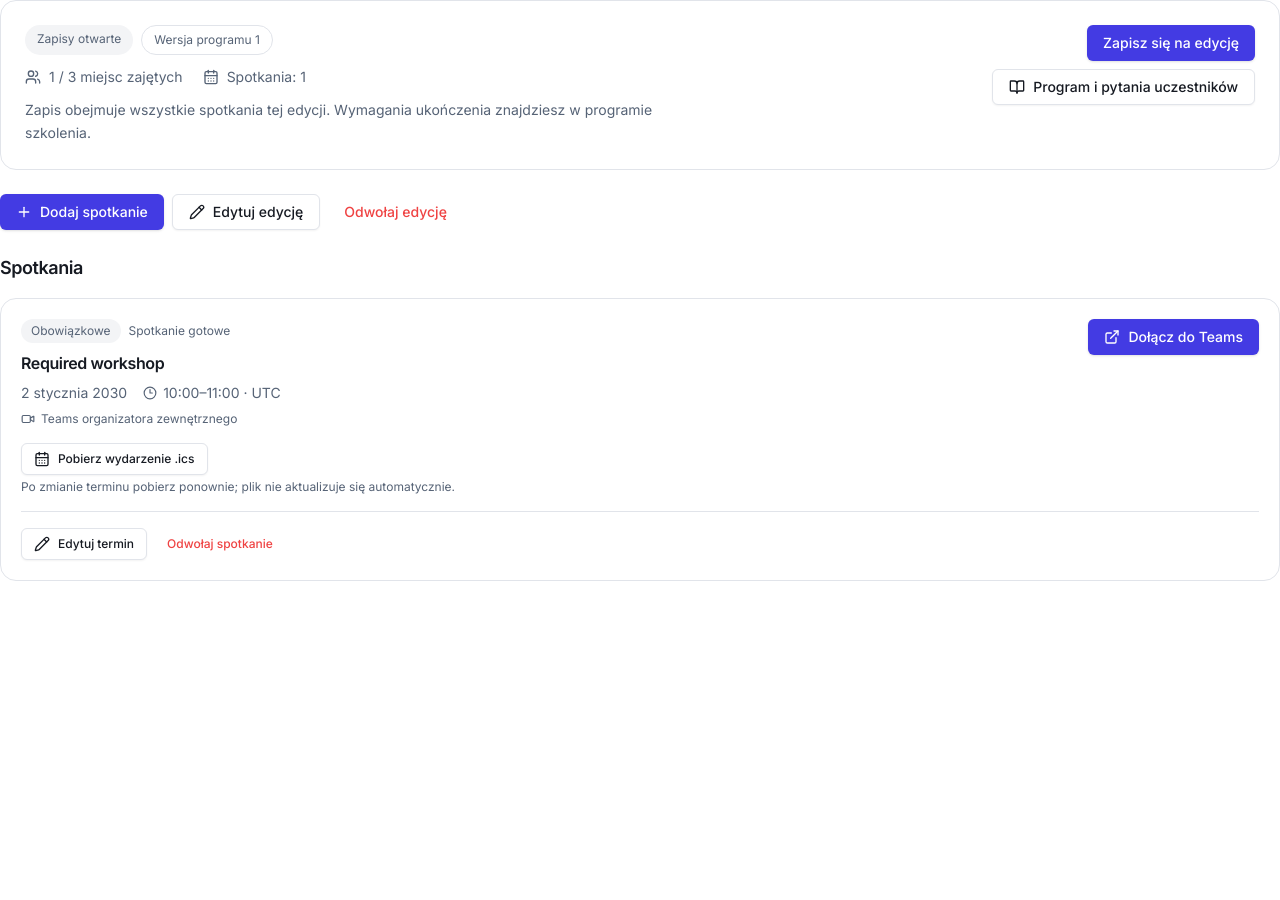
Published session obligations › distinguishes Compass cancellation from the external Teams host action (run)
Click the button "Odwołaj edycję".
click(396, 212)  # box [328,194,463,230]
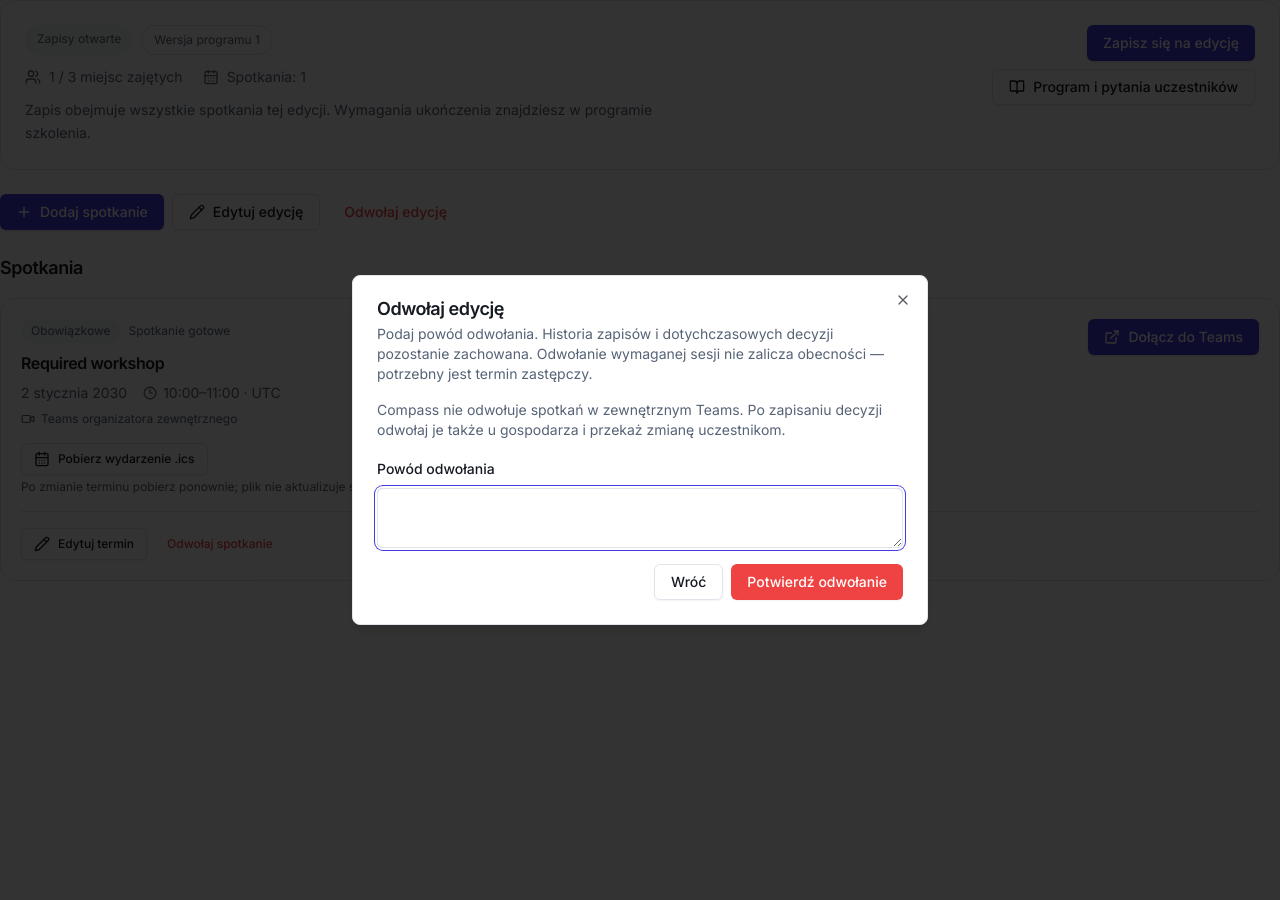
expect the text "Compass nie odwołuje spotkań w zewnętrznym Teams" is shown: met, box [377,401,882,438]
Type "Trener przełożył warsztat" into the text box labelled "Powód odwołania".
click(640, 518); type("Trener przełożył warsztat")  # box [377,488,903,548]
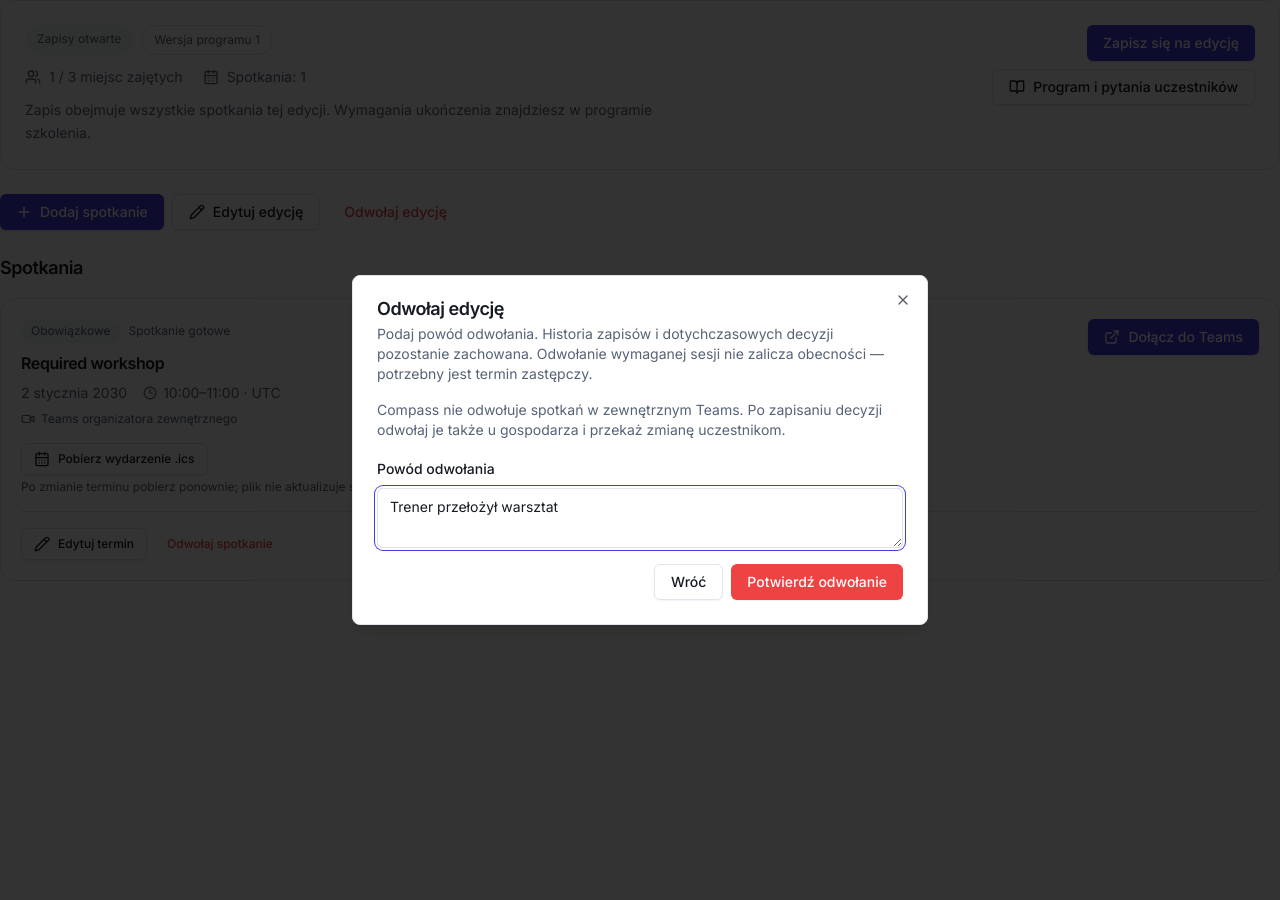
Click the button "Potwierdź odwołanie".
click(817, 582)  # box [731,564,903,600]
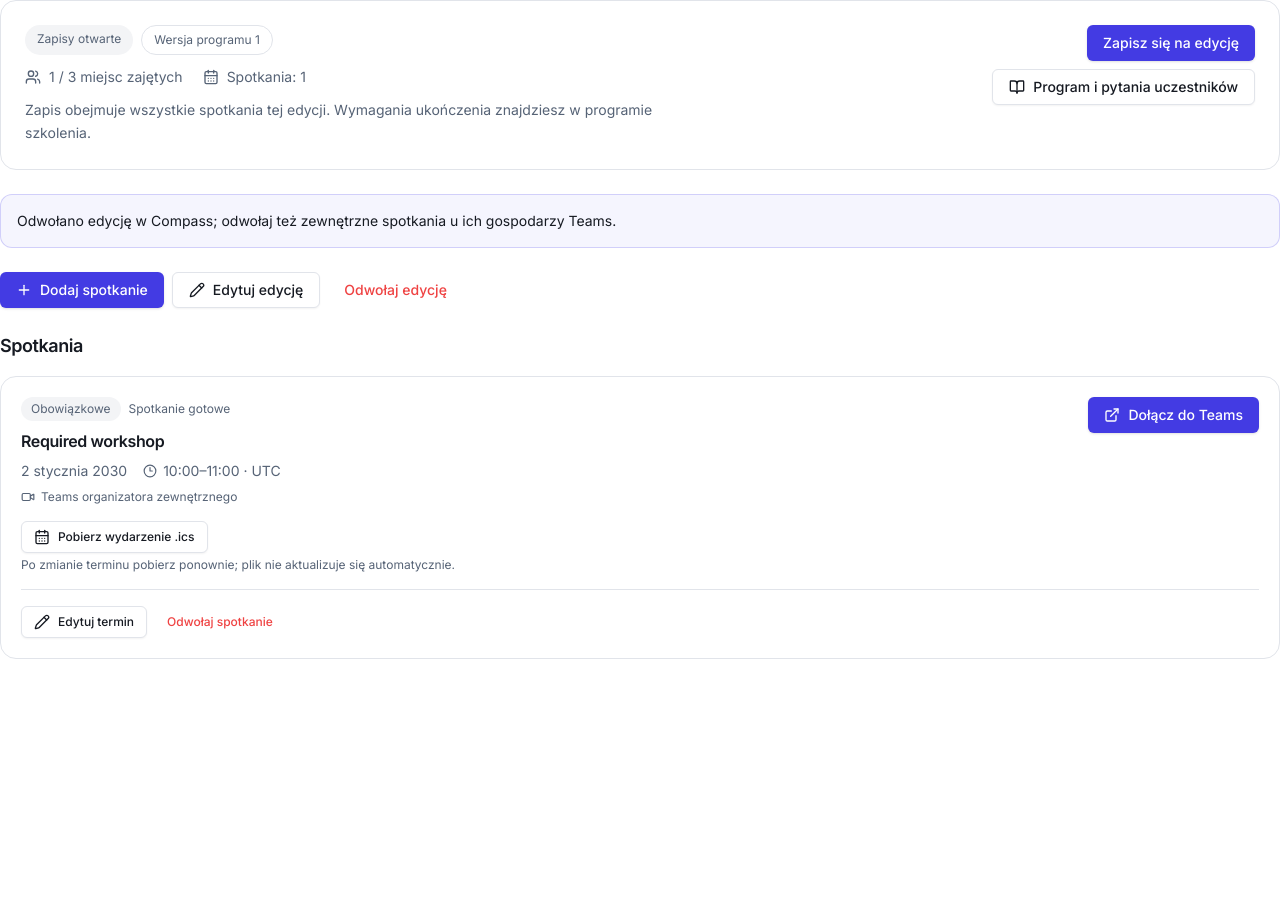
expect the message shows "Odwołano edycję w Compass; odwołaj też zewnętrzne spotkania u ich gospodarzy Teams.": met, box [17,212,616,228]
